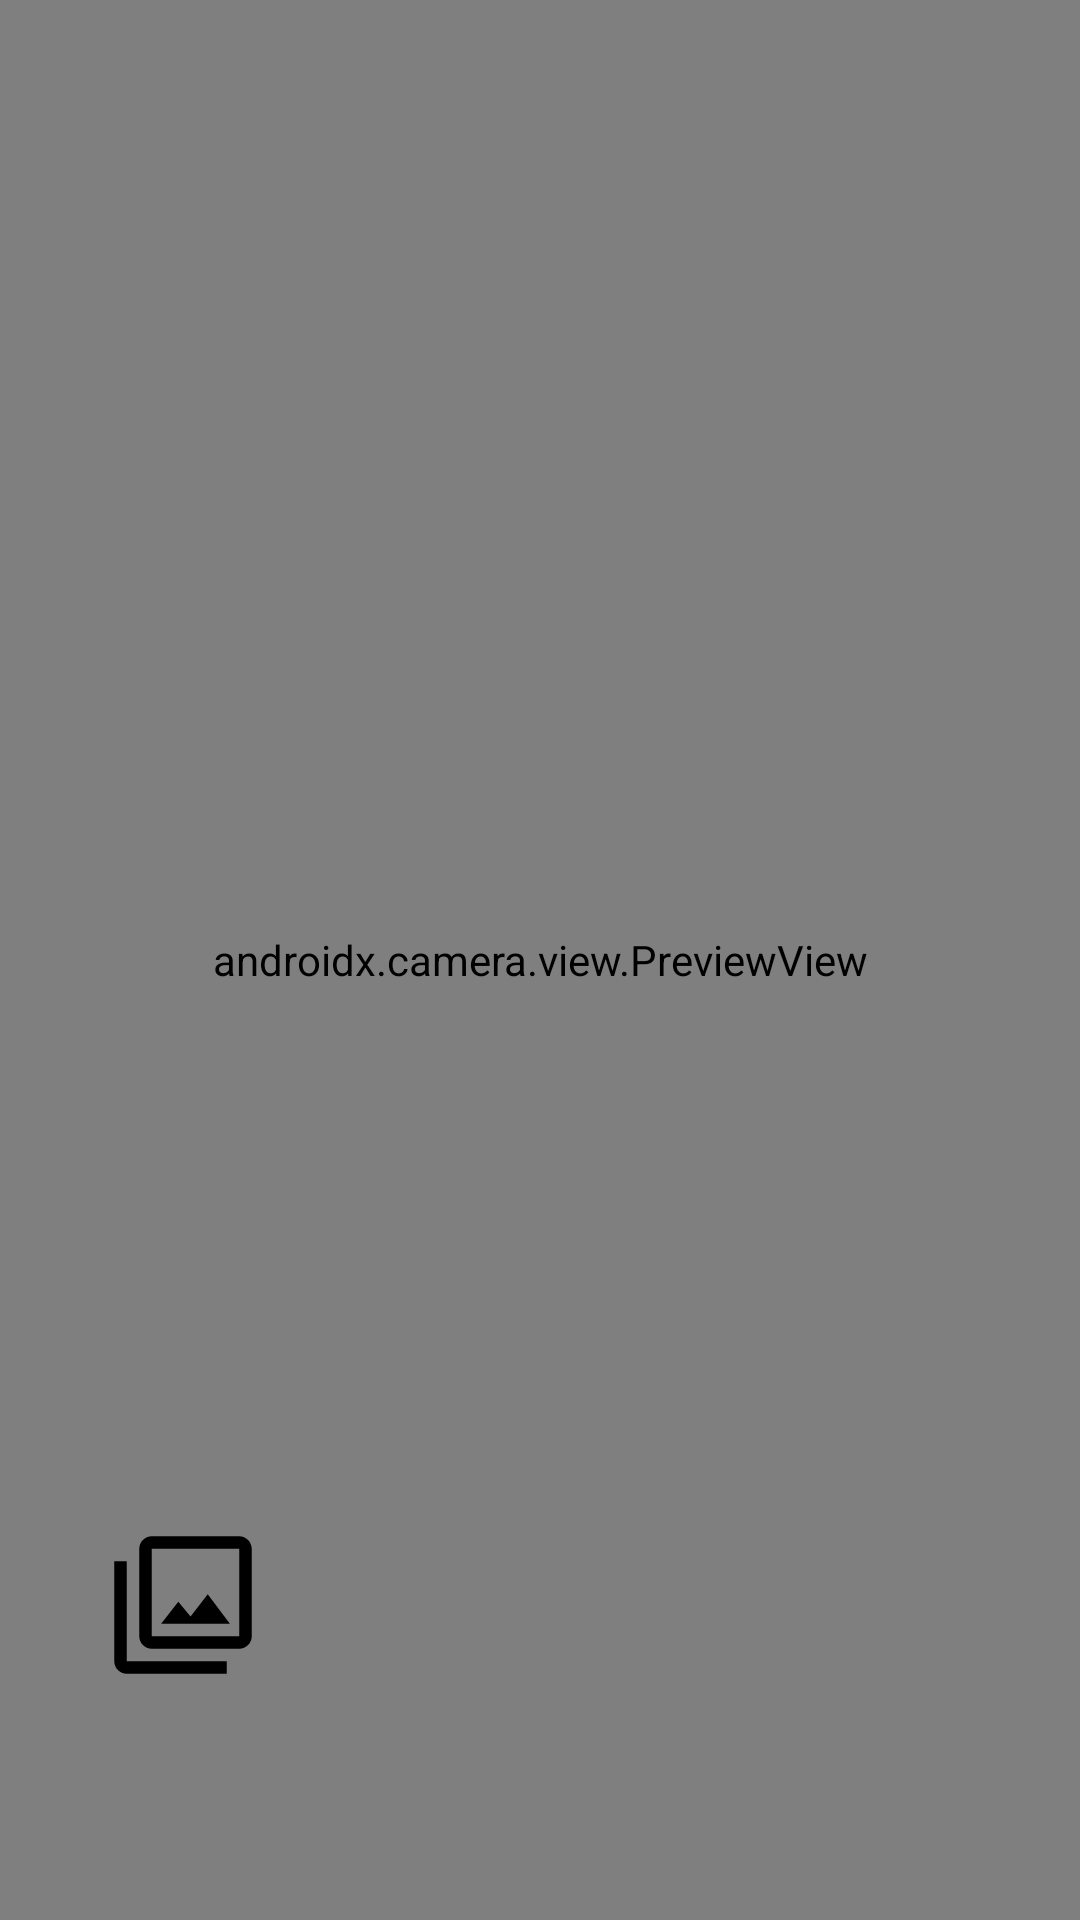

Icons on this 1080*1920 Android screen, each with its box as {"x1": x1, "y1": y1, "x2": x2, "y2": y2}:
Select Image: {"x1": 114, "y1": 1536, "x2": 252, "y2": 1674}
